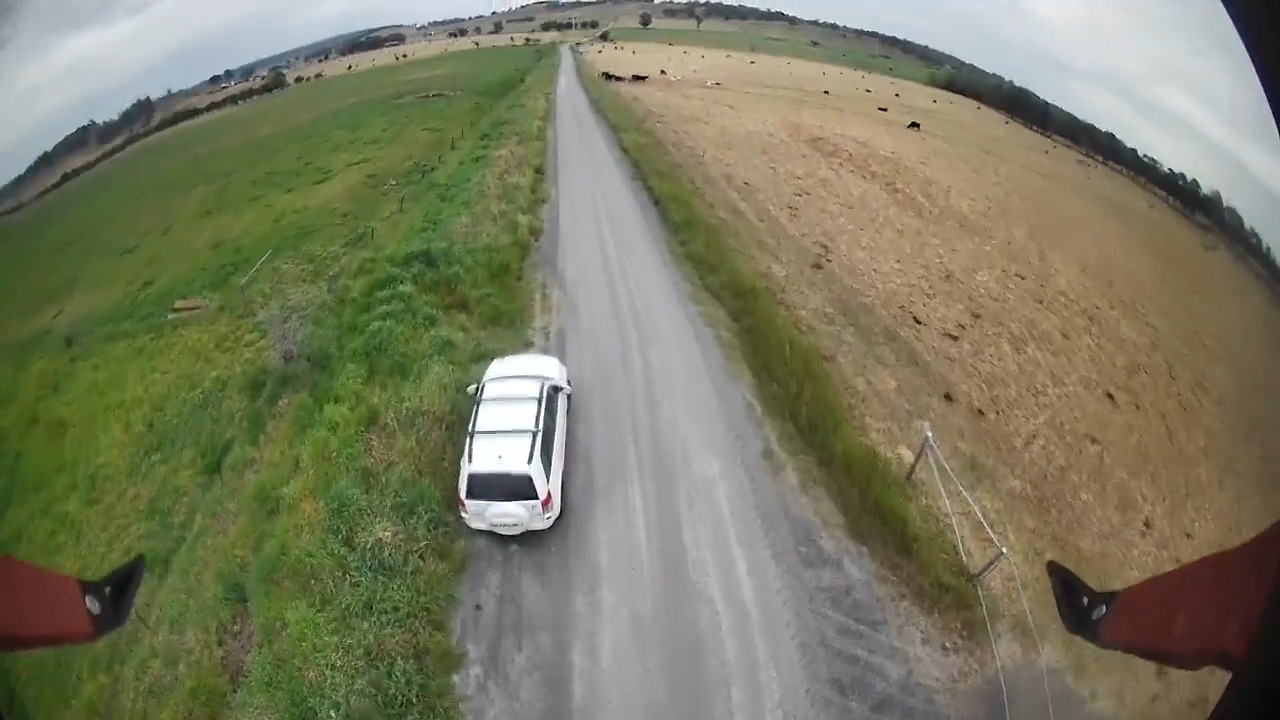Car: (456, 353, 572, 535)
